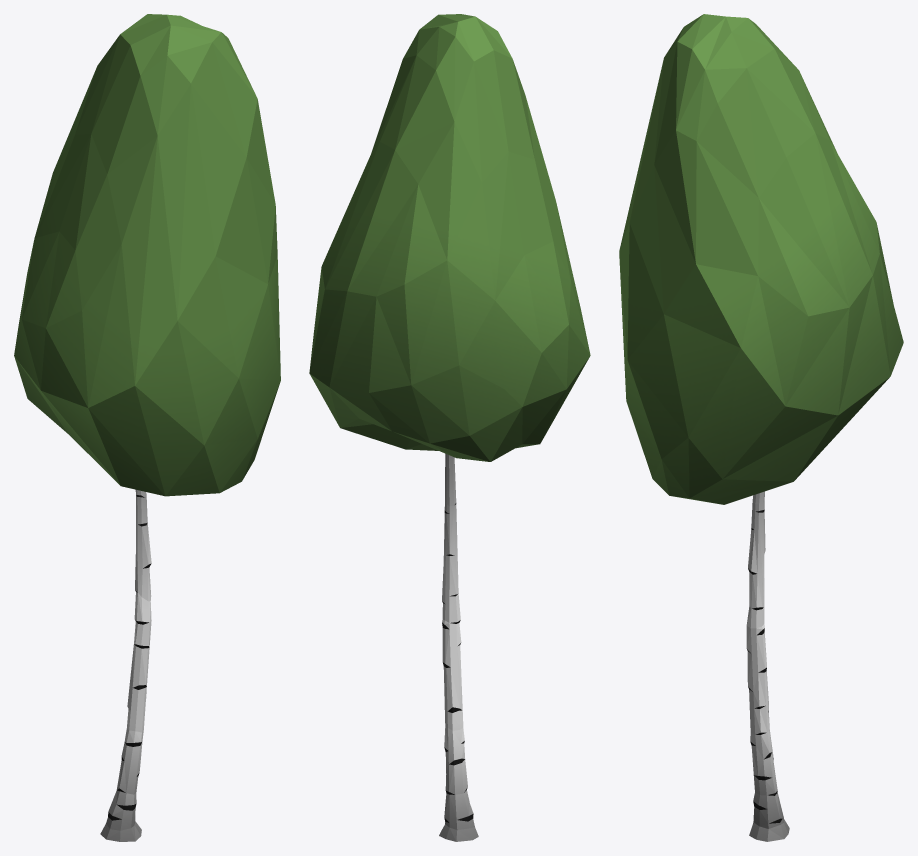
File: TreeBirch-04.FBX
3 views of the same model, side by side, from view 1: azimuth 30°, elevation 25°; view 2: azimuth 150°, elevation 25°; view 3: azimuth 270°, elevation 25° (orthographic). The views are drawn at different scales.
Visible parts, largest first — view 1: TreeBirch-04; view 2: TreeBirch-04; view 3: TreeBirch-04.
Boxes of the visible parts, x1=… form: TreeBirch-04: x1=14, y1=14, x2=280, y2=841; TreeBirch-04: x1=309, y1=14, x2=590, y2=841; TreeBirch-04: x1=619, y1=14, x2=903, y2=841.
Bounding box in the file's own units: 384 × 1265 × 394.
1 material, 1 textured.
